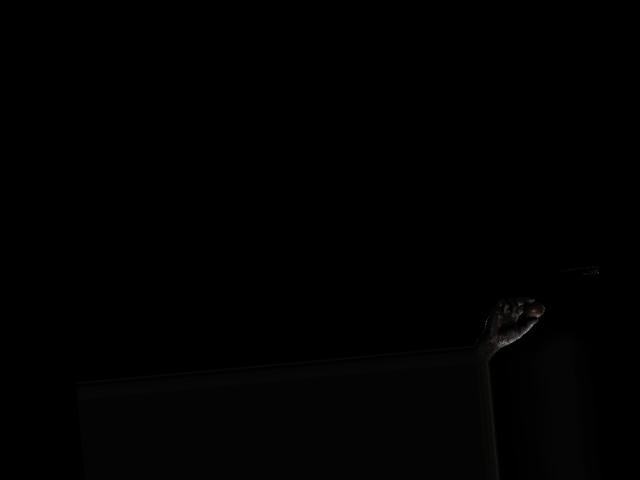egg: (521, 301, 544, 319)
